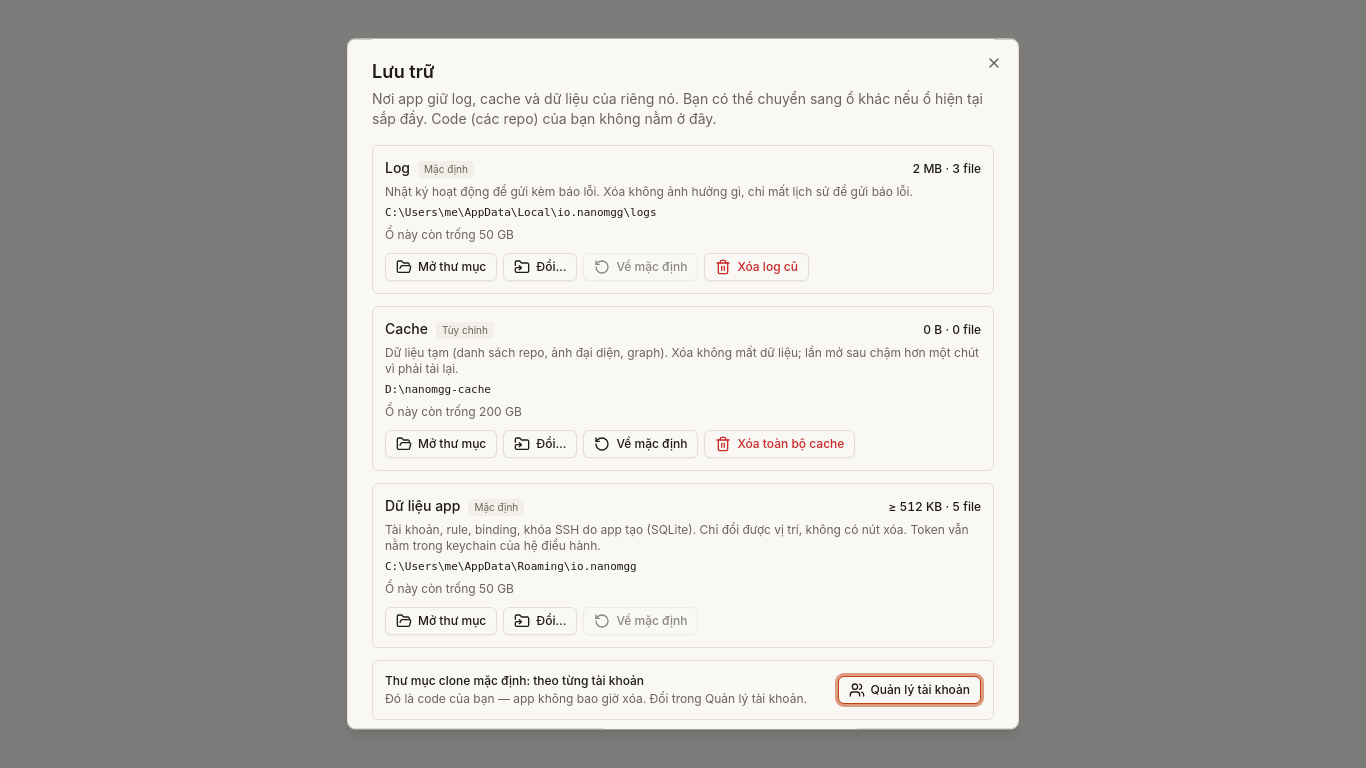
Storage dialog › shows why a folder cannot be used and does not move
The width and height of the screenshot is (1366, 768).
Click the 1st button "Đổi…" at (540, 267), box [503,253,577,281]
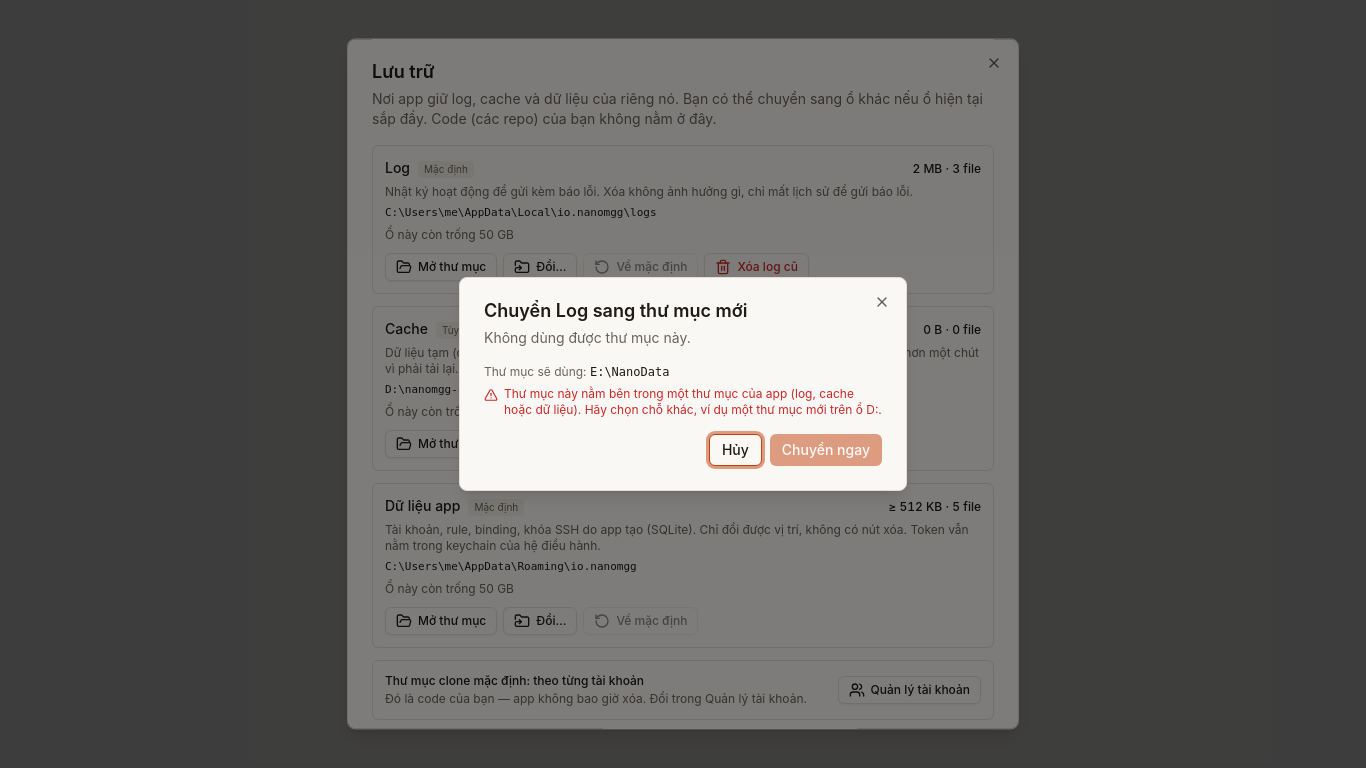
Now the message shows "nằm bên trong một thư mục của app", box [504,386,882,417]
Now the button "Chuyển ngay" is disabled, box [770,434,882,466]
